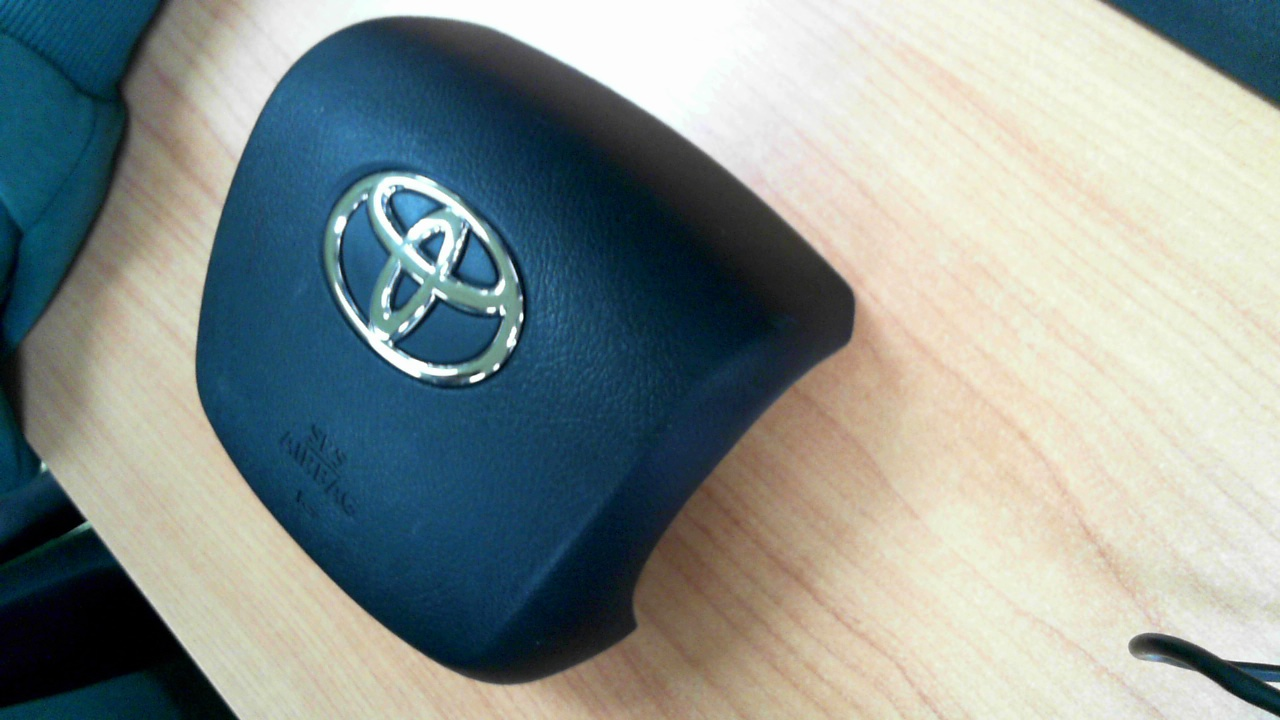Airbag: (193, 18, 856, 683)
Toyota: (324, 171, 525, 390)
